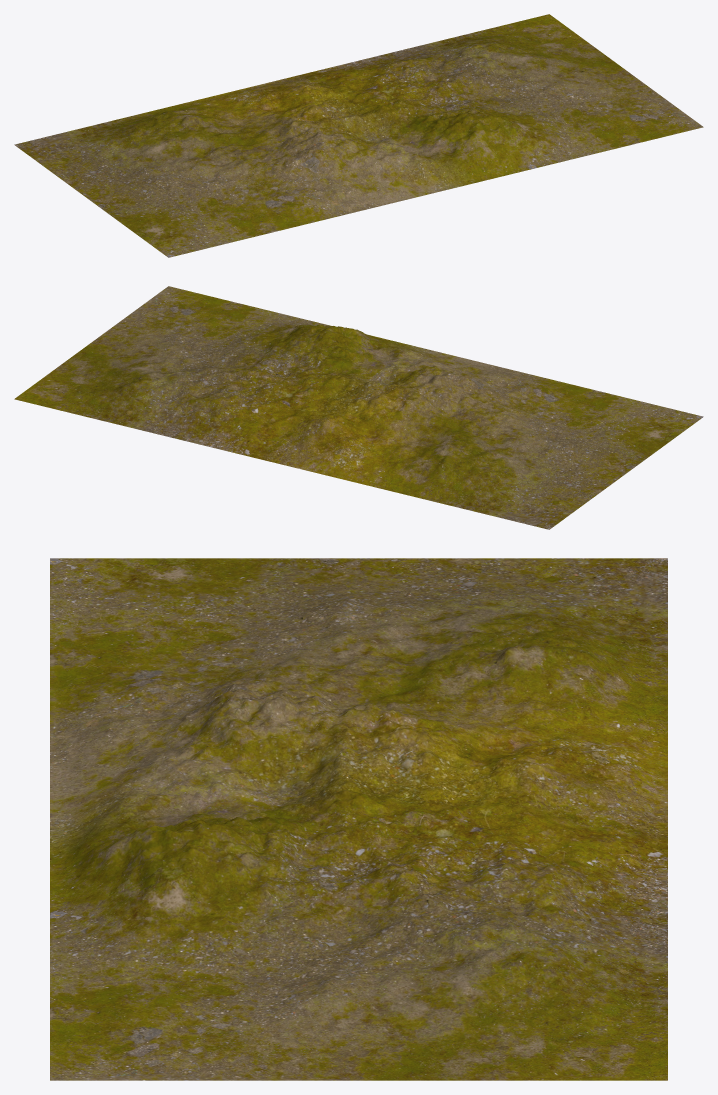
Rendered from terrain.obj.
The picture shows the model from 3 angles, top to bottom: view 1: azimuth 30°, elevation 25°; view 2: azimuth 150°, elevation 25°; view 3: azimuth 270°, elevation 25°; orthographic projection. The views are drawn at different scales.
Parts seen in each view (by area): view 1: Landscape.003; view 2: Landscape.003; view 3: Landscape.003.
Boxes of the visible parts, x1,y1,x2,y2 form: Landscape.003: (14,14,703,257); Landscape.003: (14,286,703,529); Landscape.003: (50,558,667,1080).
Size of the model in its own units: 10 by 0.5675 by 5.
1 material, 1 textured.
